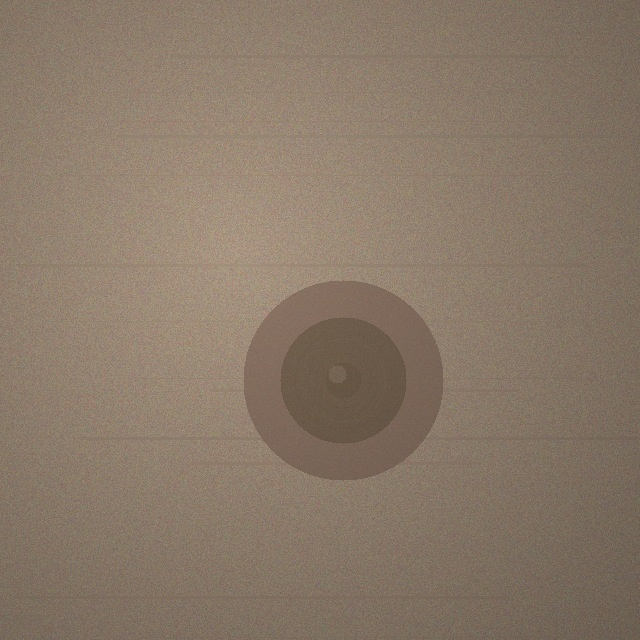good: (243, 280, 443, 480)
